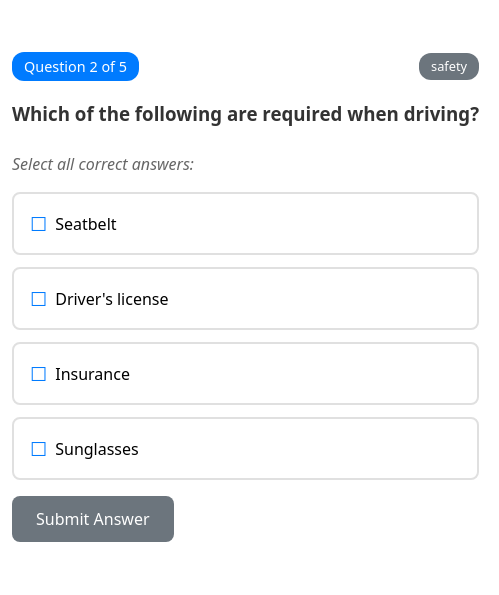
it: Question Component › shows correct answer feedback for multiple choice after submission
// Select some correct options
Click the button "☐ Seatbelt": (86, 224) [12, 192, 479, 255]
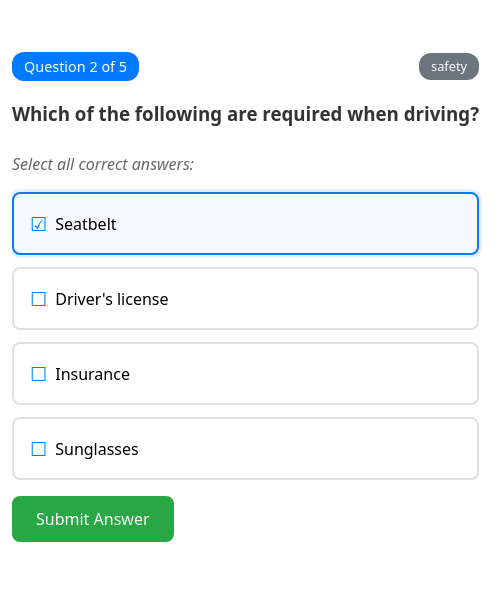
Click the button "☐ Driver's license": (112, 299) [12, 267, 479, 330]
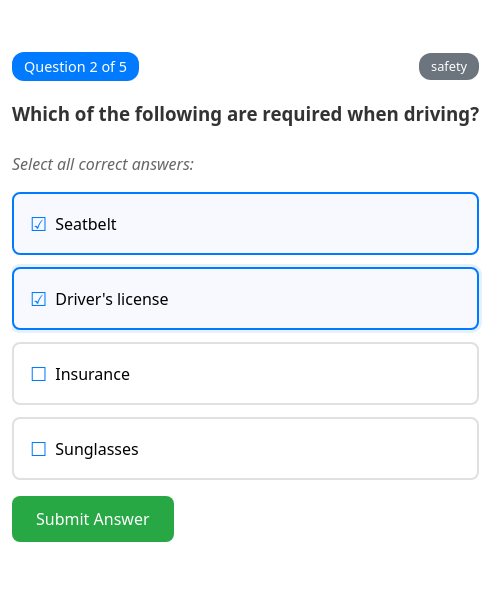
Click the button "Submit Answer": (93, 519) [12, 496, 174, 542]
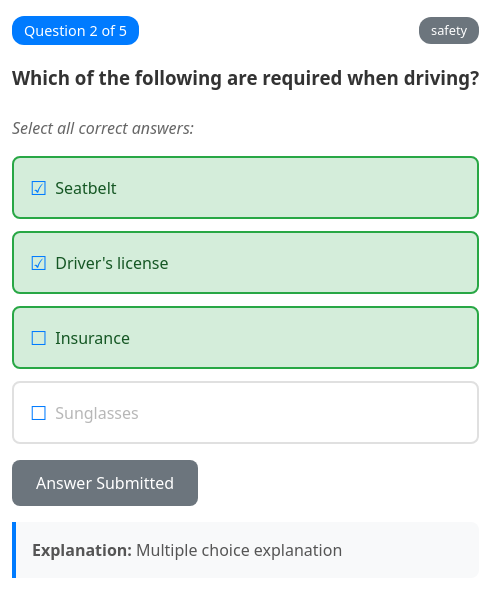
Now the text "Multiple choice explanation" is shown, box [136, 539, 342, 561]
Now the button "Answer Submitted" is shown, box [12, 460, 198, 506]
